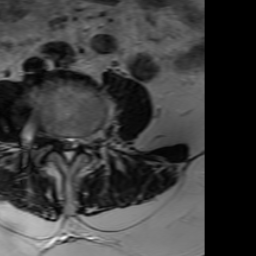CCS_normal: (63, 131, 71, 170)
LFS_normal: (80, 125, 89, 153)
LLS_stenosis: (71, 131, 80, 162)
RFS_severe_stenosis: (45, 123, 55, 150)
RLS_severe_stenosis: (55, 127, 63, 155)
